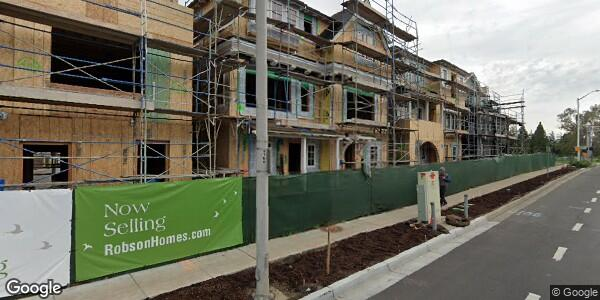Steel_Pole: (251, 1, 273, 297)
